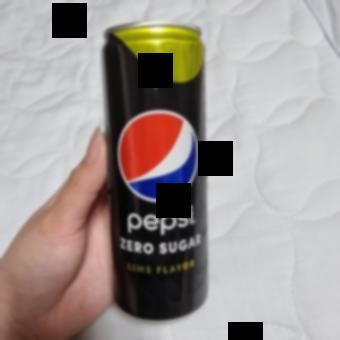pepsi_zero: (101, 20, 220, 318)
